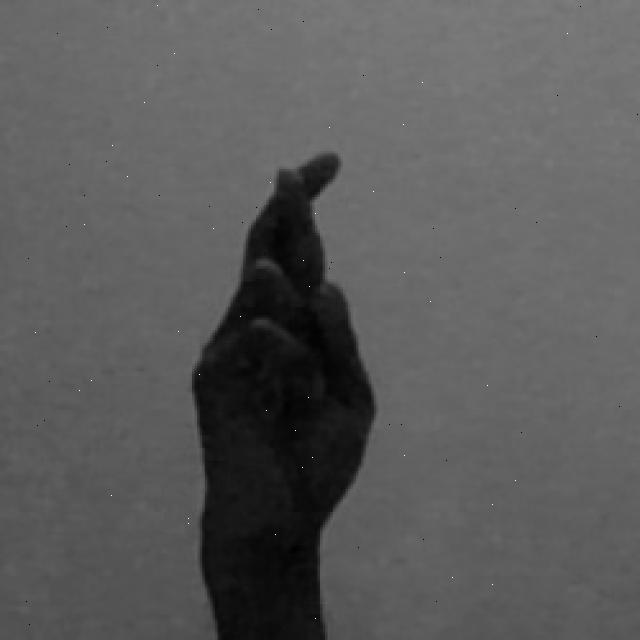R: (189, 147, 380, 640)
